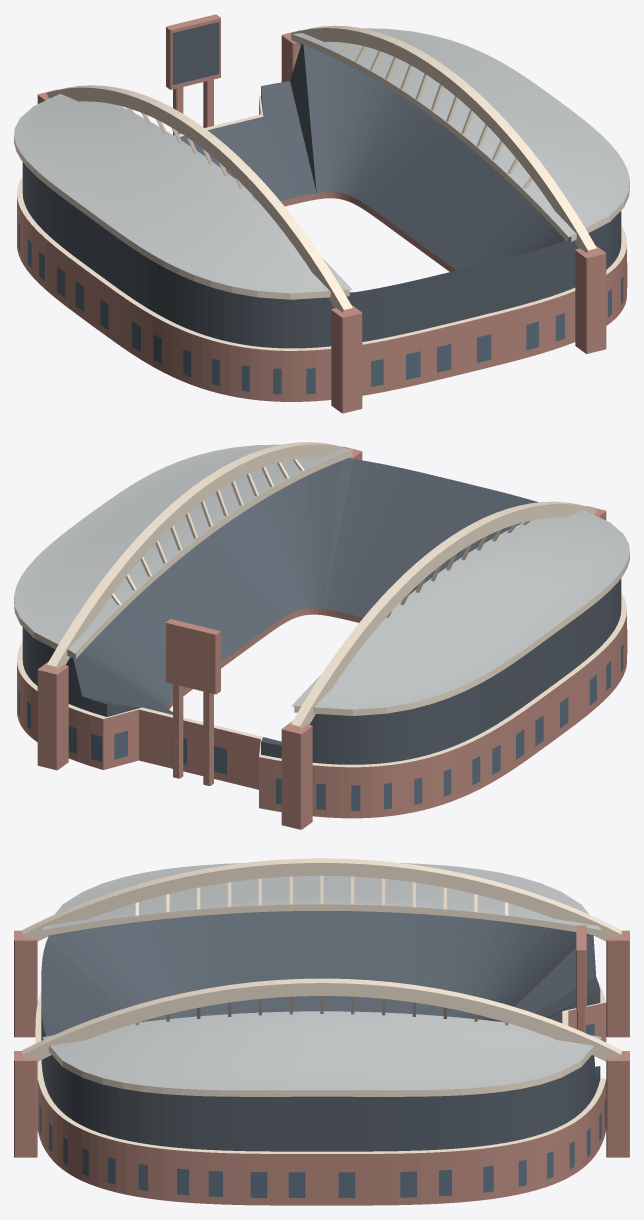
File: sea-lumen-field.glb
The picture shows the model from 3 angles, top to bottom: view 1: azimuth 30°, elevation 25°; view 2: azimuth 150°, elevation 25°; view 3: azimuth 270°, elevation 25°; orthographic projection.
Visible parts, largest first — view 1: Lumen Field; view 2: Lumen Field; view 3: Lumen Field.
Boxes of the visible parts, left/top/right/bottom form: Lumen Field: left=14, top=14, right=629, bottom=413; Lumen Field: left=14, top=442, right=629, bottom=829; Lumen Field: left=14, top=858, right=629, bottom=1205.
Bounding box in the file's own units: 229 × 80 × 260.
